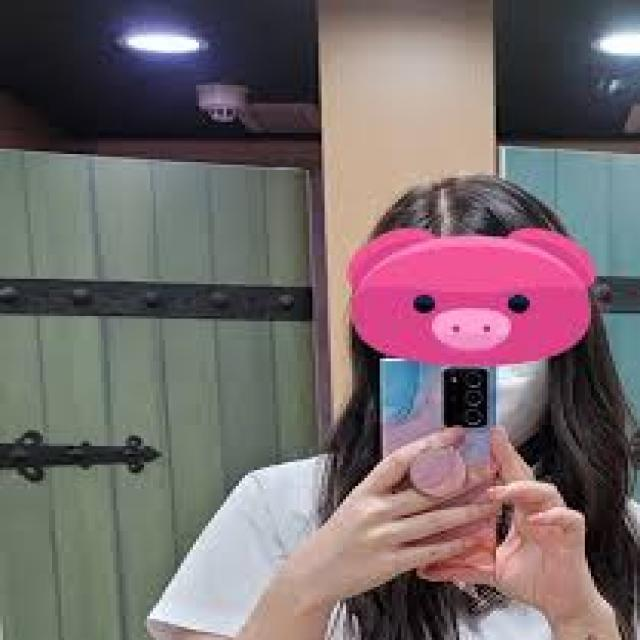Phone: (374, 353, 506, 582)
